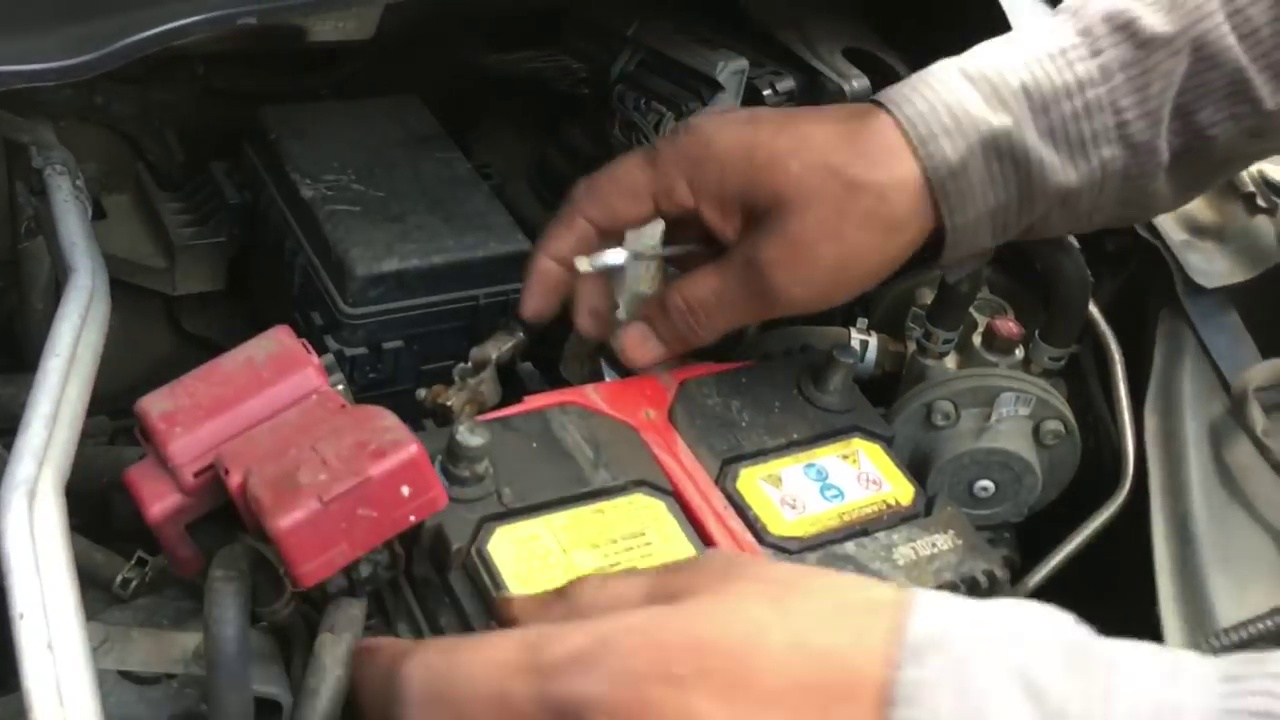battery: (384, 343, 995, 602)
neg_disconnected: (763, 302, 900, 425)
pos_disconnected: (193, 358, 512, 545)
